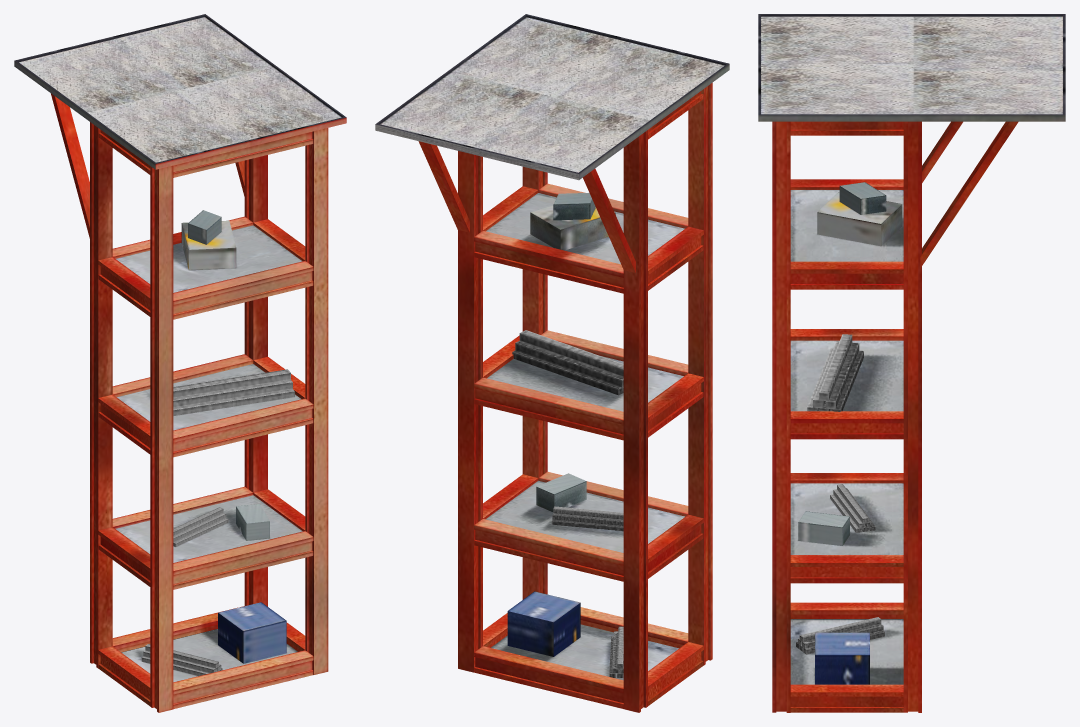
File: tower2.obj
The picture shows the model from 3 angles, left to right: view 1: azimuth 30°, elevation 25°; view 2: azimuth 150°, elevation 25°; view 3: azimuth 270°, elevation 25°; orthographic projection. The views are drawn at different scales.
Size of the model in its own units: 10.18 by 28.32 by 13.05.
1 material, 1 textured.
